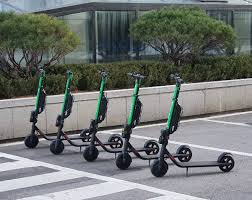kick_body: (181, 162, 217, 167)
kick_handler: (126, 72, 146, 82), (169, 74, 183, 85)
kick_neck: (165, 88, 181, 142), (126, 86, 141, 134), (93, 85, 106, 130), (32, 79, 45, 122), (58, 84, 71, 125)
kick_wheel: (153, 161, 168, 177), (116, 153, 131, 169), (221, 152, 233, 171), (83, 147, 98, 161), (25, 135, 39, 149), (49, 141, 64, 154), (179, 146, 192, 161), (146, 140, 158, 155), (110, 134, 122, 148), (82, 129, 93, 142)
